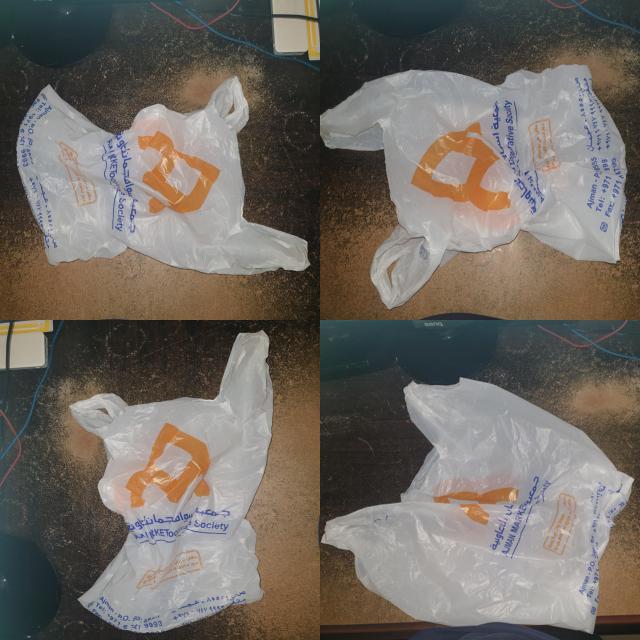Single-layer Plastic: (322, 379, 632, 632), (320, 65, 626, 309), (70, 331, 272, 634), (16, 78, 309, 275)
